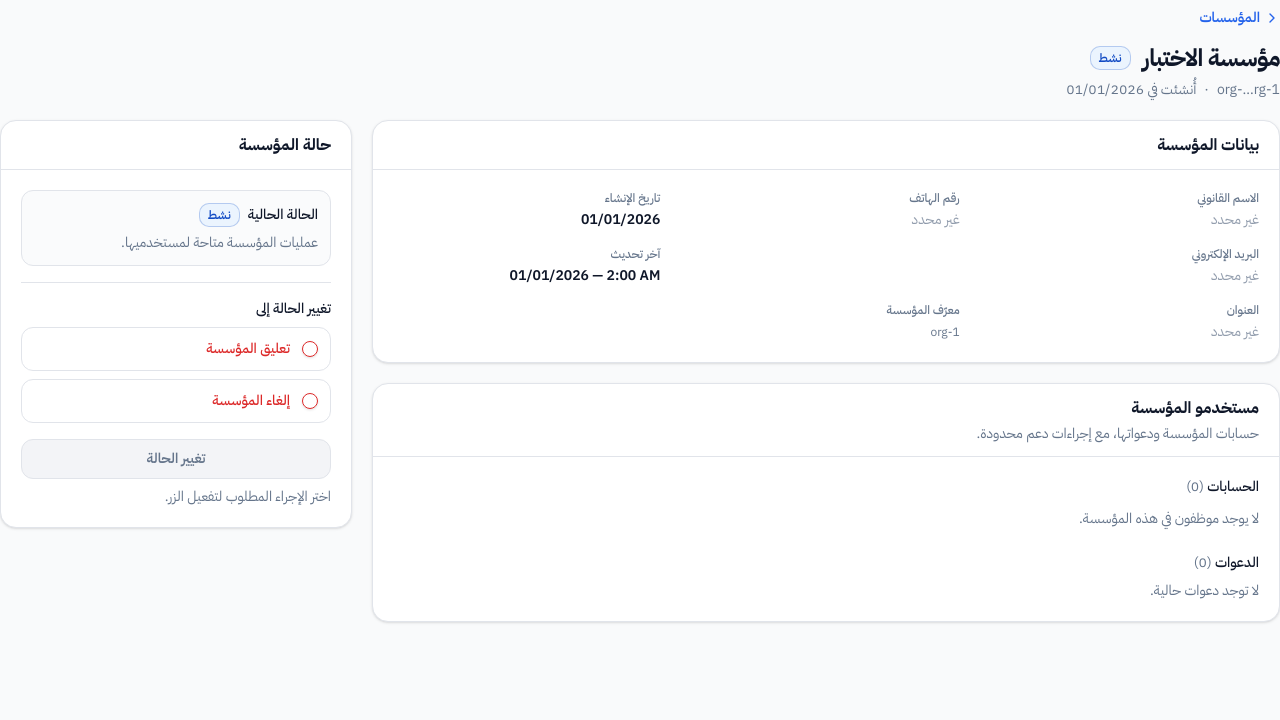
Test: PlatformOrganizationDetailPage › shows a failed mutation inside the open confirmation dialog
Click the radio button next to "إلغاء المؤسسة". click: (310, 401)
box: [302, 393, 318, 409]
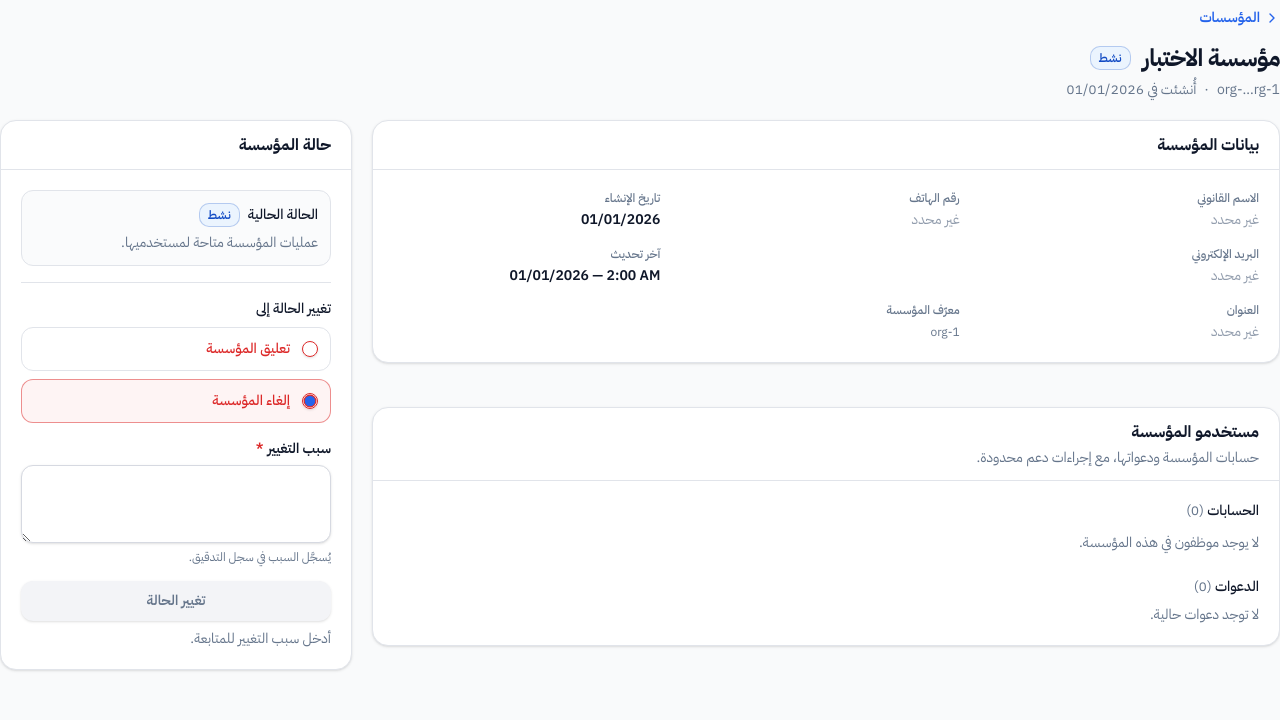
Type "إنهاء العقد" into the text box labelled "سبب التغيير*". click: (176, 504)
box: [21, 465, 331, 543]
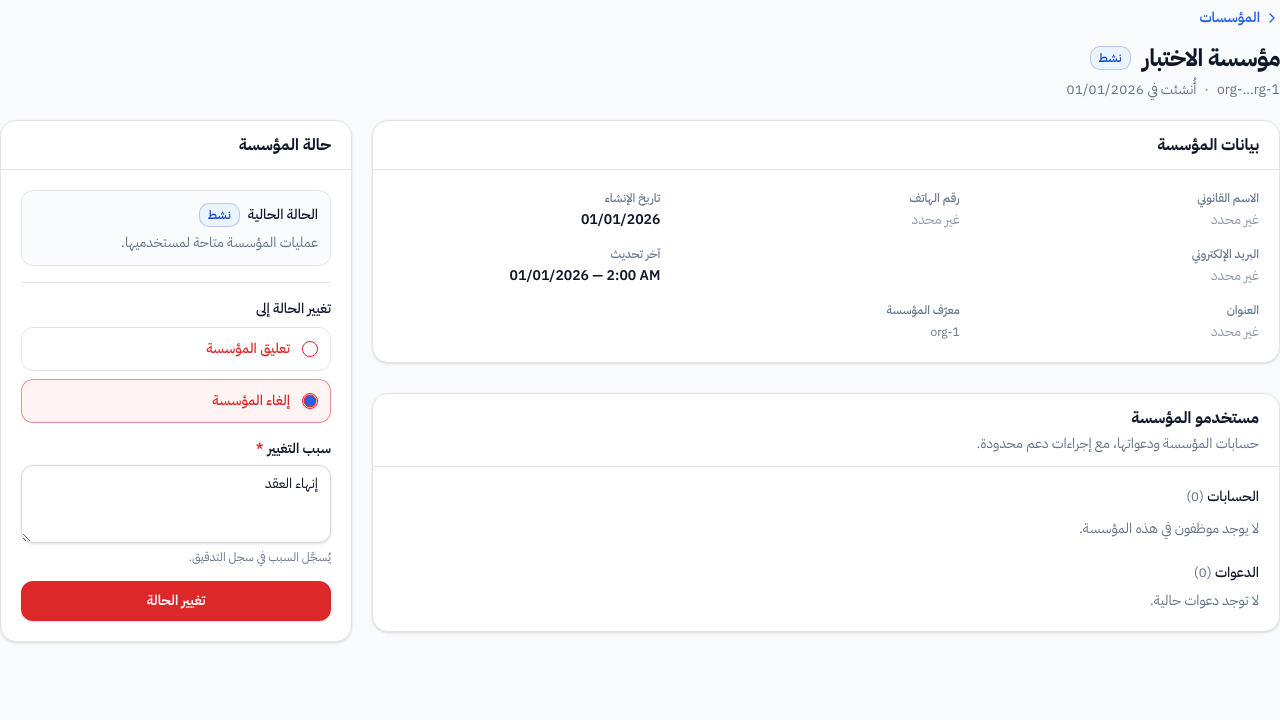
Click the button "تغيير الحالة". click: (176, 601)
box: [21, 581, 331, 621]
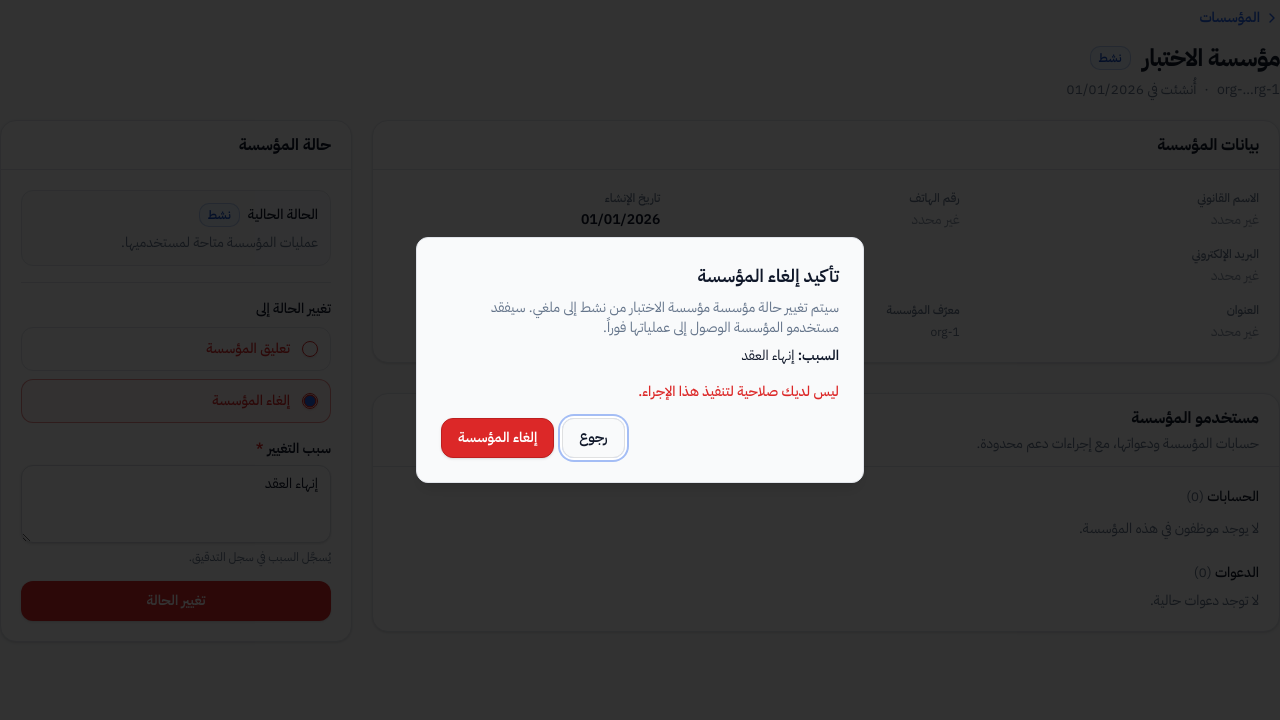
Expected: the message reads "ليس لديك صلاحية لتنفيذ هذا الإجراء.", [638, 381, 839, 402]
Expected: the number of messages is 1, [638, 381, 839, 402]
Expected: the button "إلغاء المؤسسة" is enabled, [441, 418, 554, 458]
